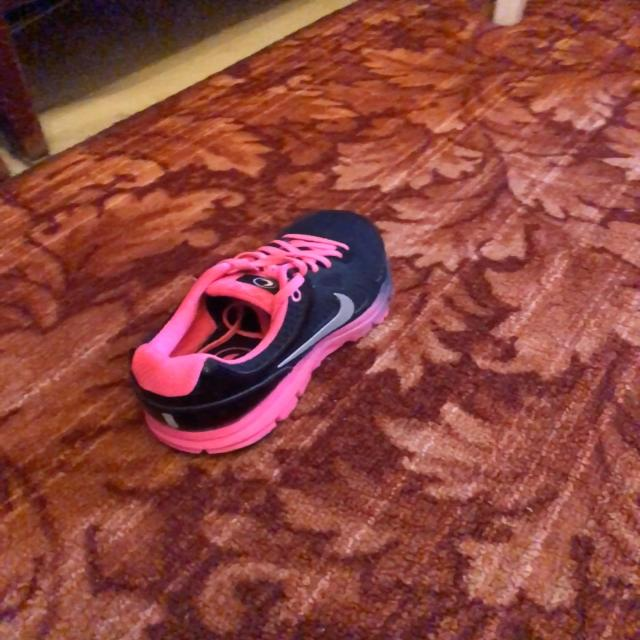shoe: (129, 211, 393, 458)
